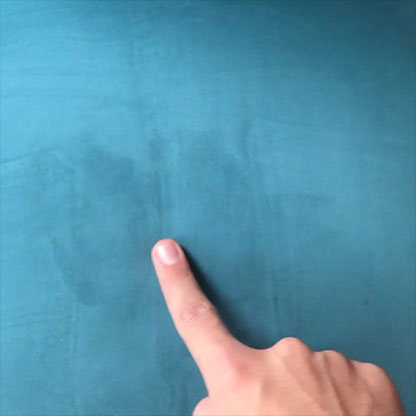fingertip: (136, 234, 196, 278)
